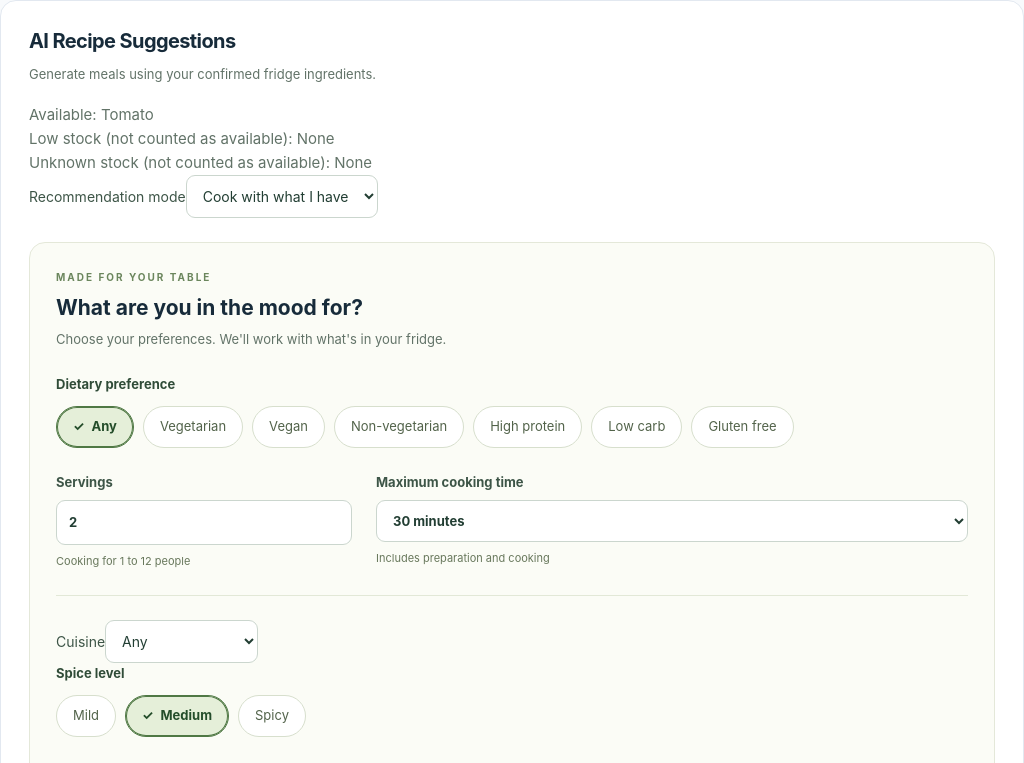
Scenario: recipe preferences › supports any time and empty results
Select "Any time" in the dropdown labelled "Maximum cooking time": [672, 521] box [376,500,968,542]
(page scrolled)
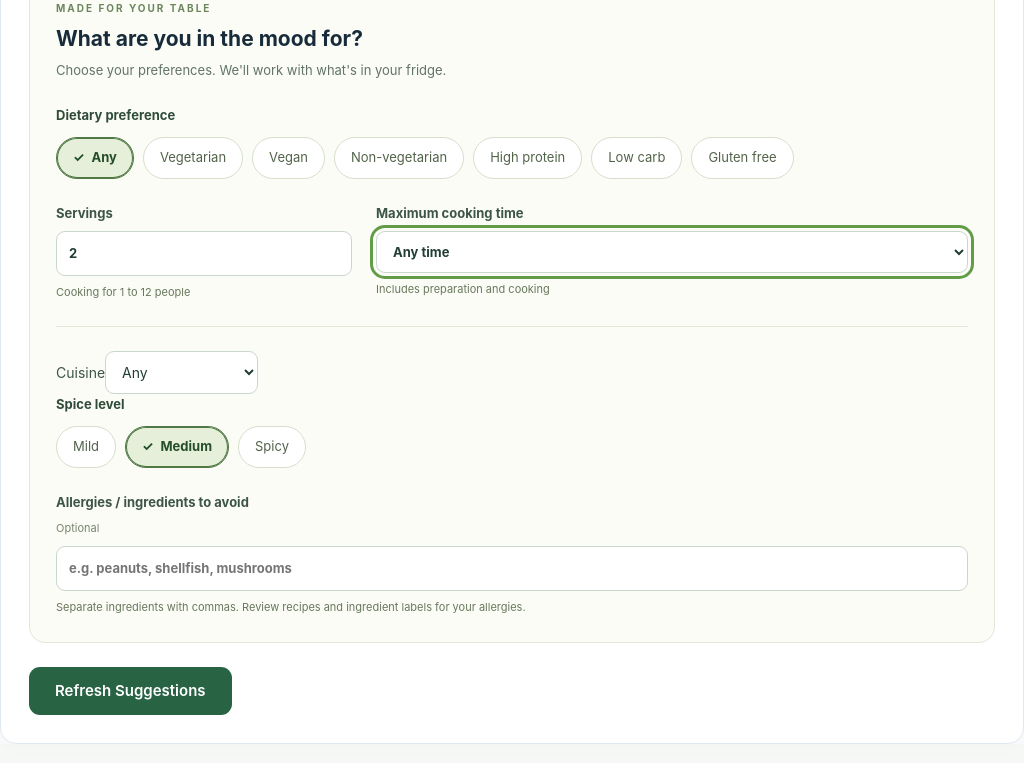
Click the button "Refresh Suggestions": [130, 691] box [29,667,232,715]
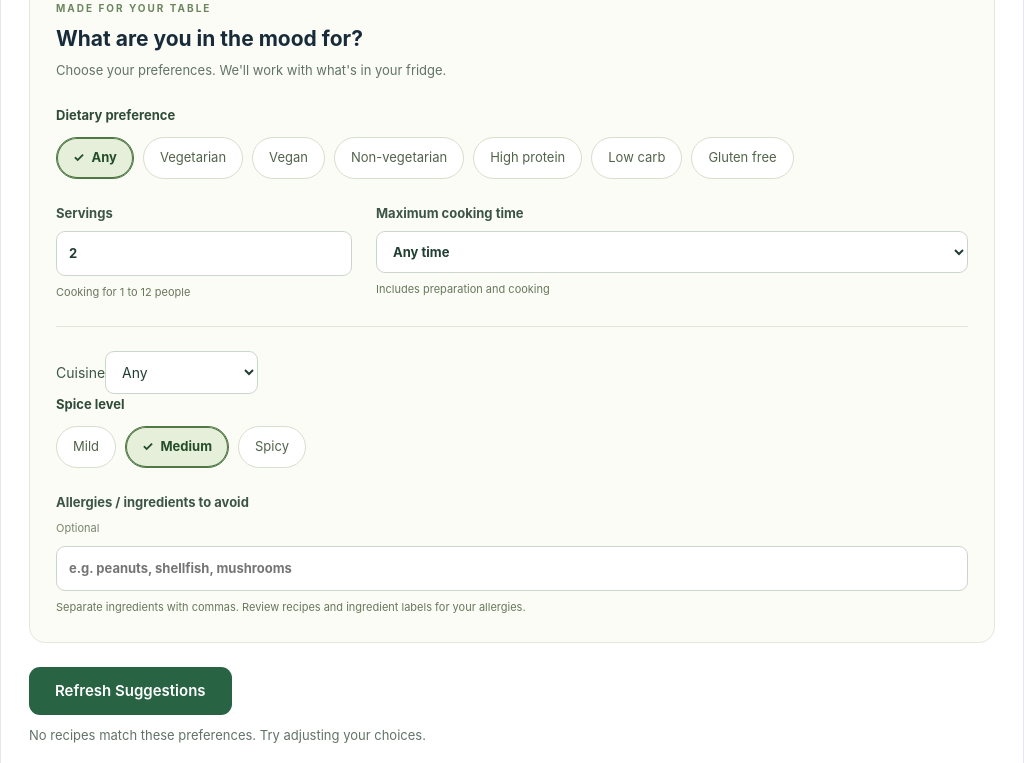
Check: the text "No recipes match these preferences. Try adjusting your choices." is shown, box [29,727,426,743]
